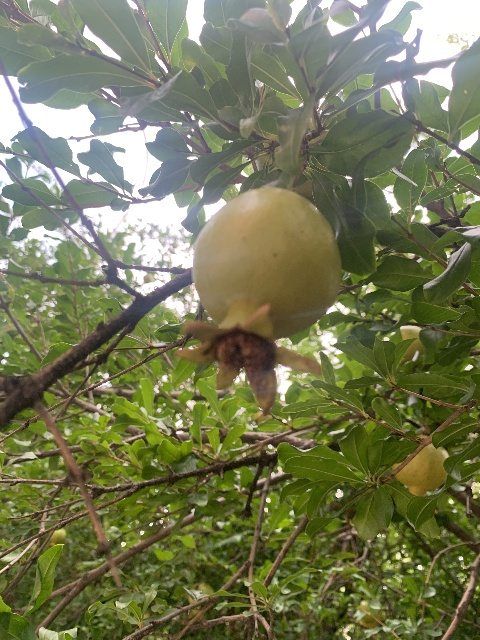mid-growth: (174, 186, 343, 412), (391, 433, 449, 496), (48, 527, 66, 548)
